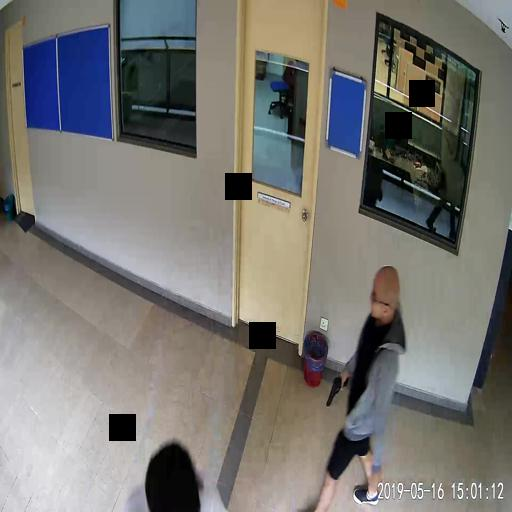Handgun: (325, 372, 346, 407)
